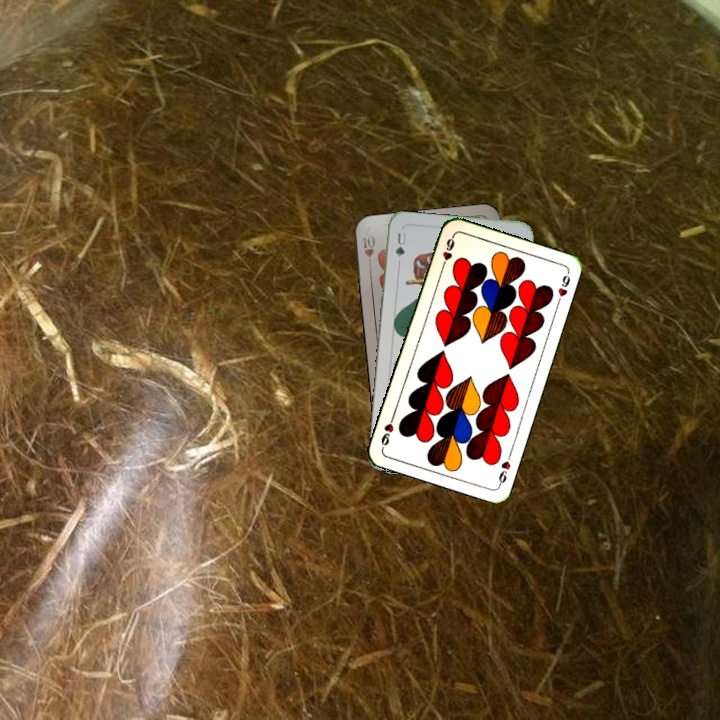GU: (391, 229, 408, 260)
H10: (358, 231, 378, 271)
H9: (437, 232, 457, 272), (495, 449, 514, 488)
